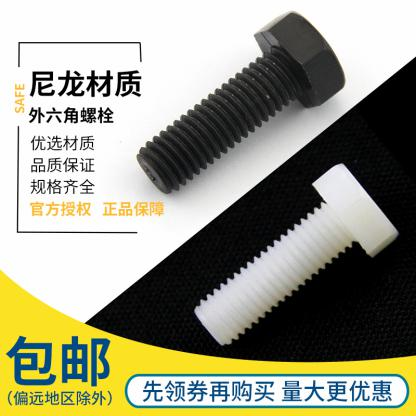FOD: (191, 160, 401, 350), (132, 11, 345, 196)
